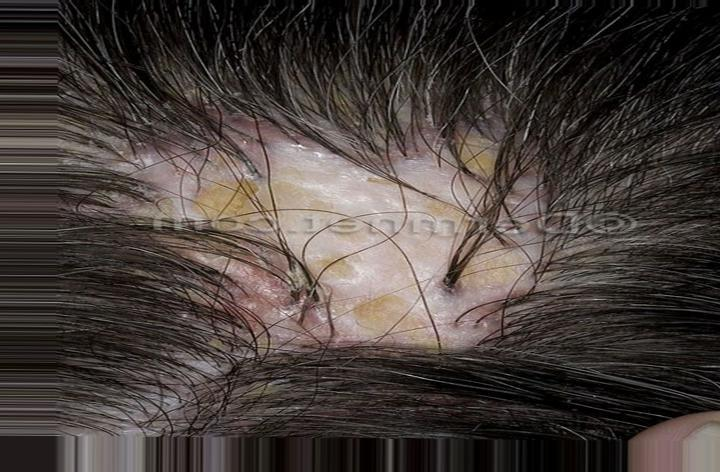Folliculitis: (176, 99, 521, 360)
